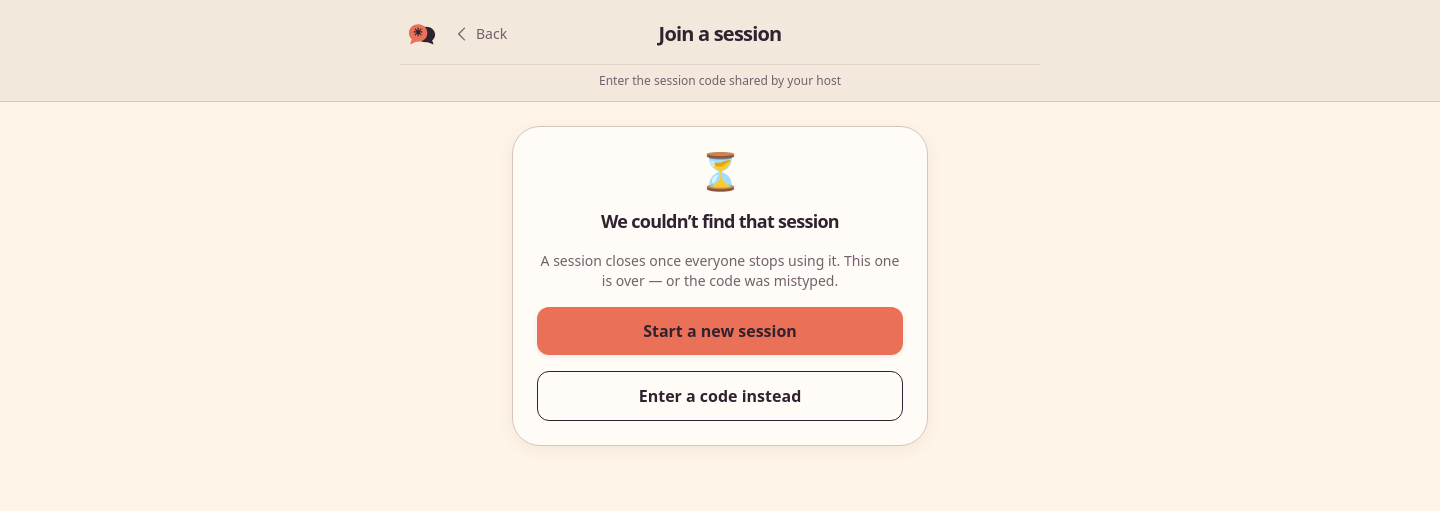
Test case: JoinSessionPage dead-link probe › shows the not-found card when the probe 404s, and restores the form on demand
Expected: the heading "We couldn’t find that session" is shown, x1=601 y1=209 x2=839 y2=233
Expected: the text "over — or the code was mistyped" is shown, x1=541 y1=251 x2=899 y2=290
Click the button "Enter a code instead". click: (720, 396)
box: x1=537 y1=371 x2=903 y2=421
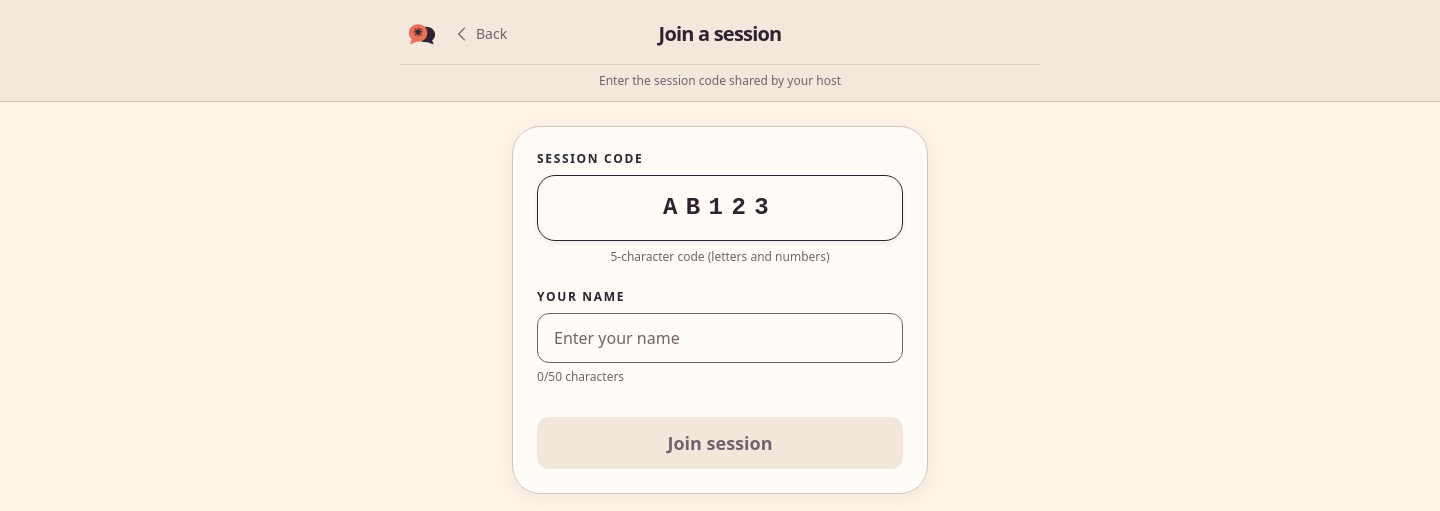
Expected: the field labelled "Session code" holds "AB123", x1=537 y1=175 x2=903 y2=241
